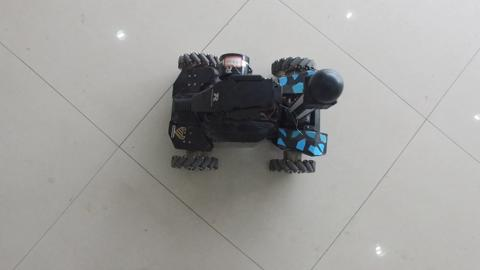chariot: (145, 43, 332, 182)
